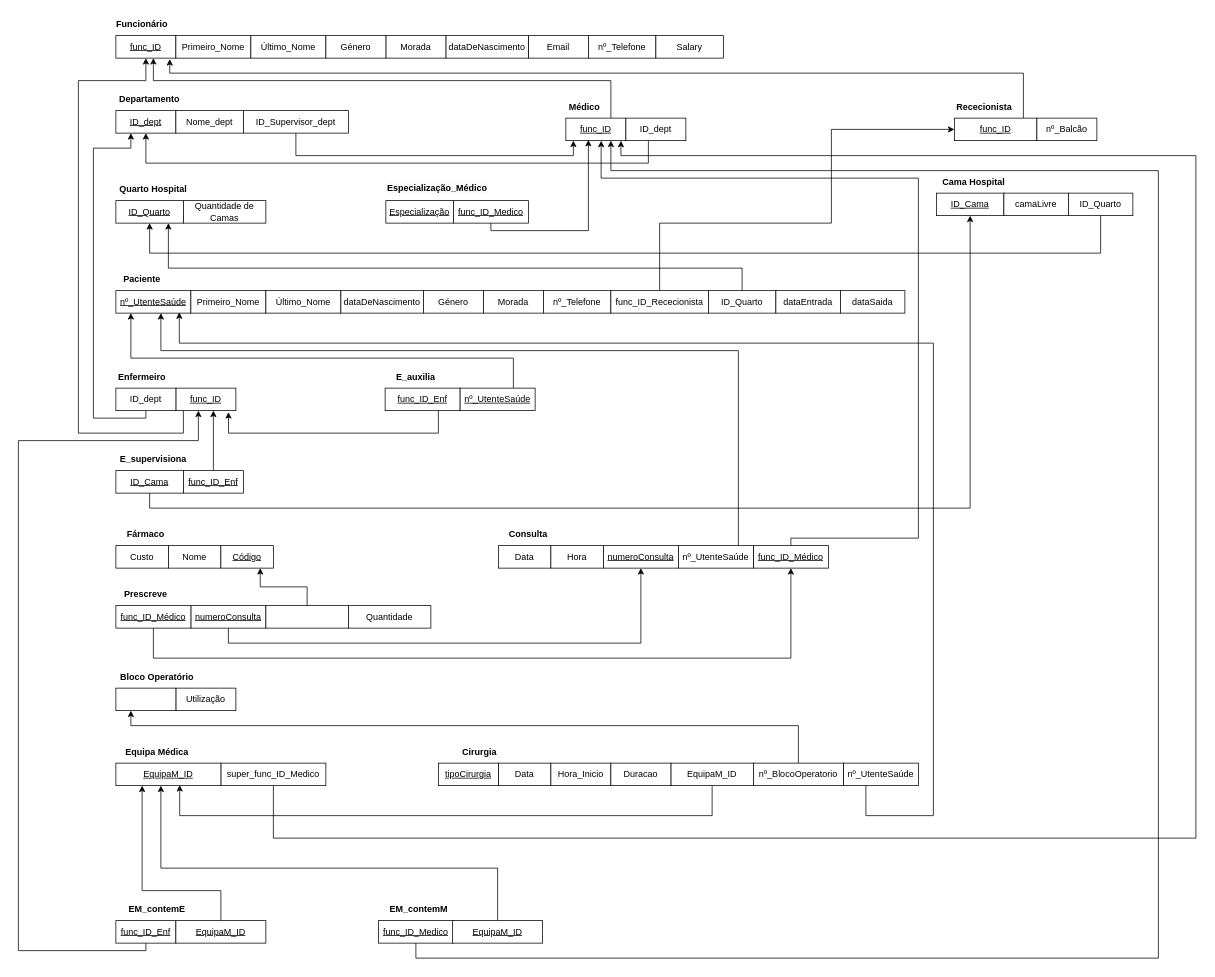
The diagram is 1215 pixels wide and 977 high, and some of its shapes have lost their labels. Each missing label, with the centre of its shape:
Código_Farmaco: point (306, 616)
nº_Bloco: point (145, 699)
